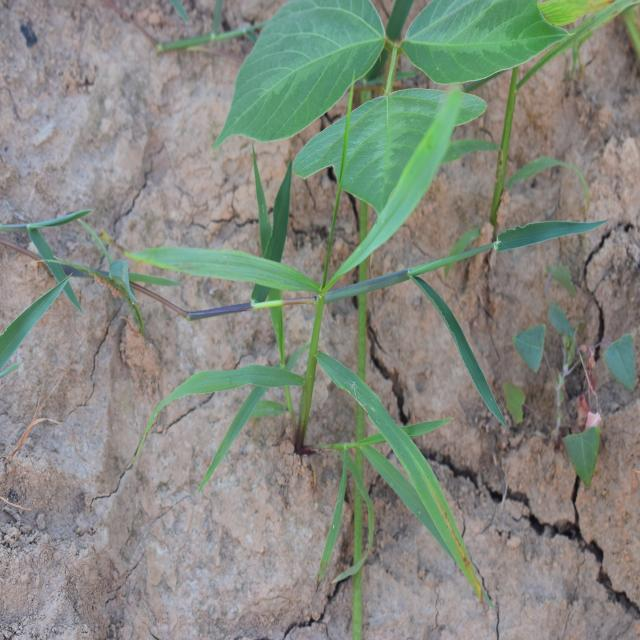green_foxtail: (175, 136, 498, 536)
